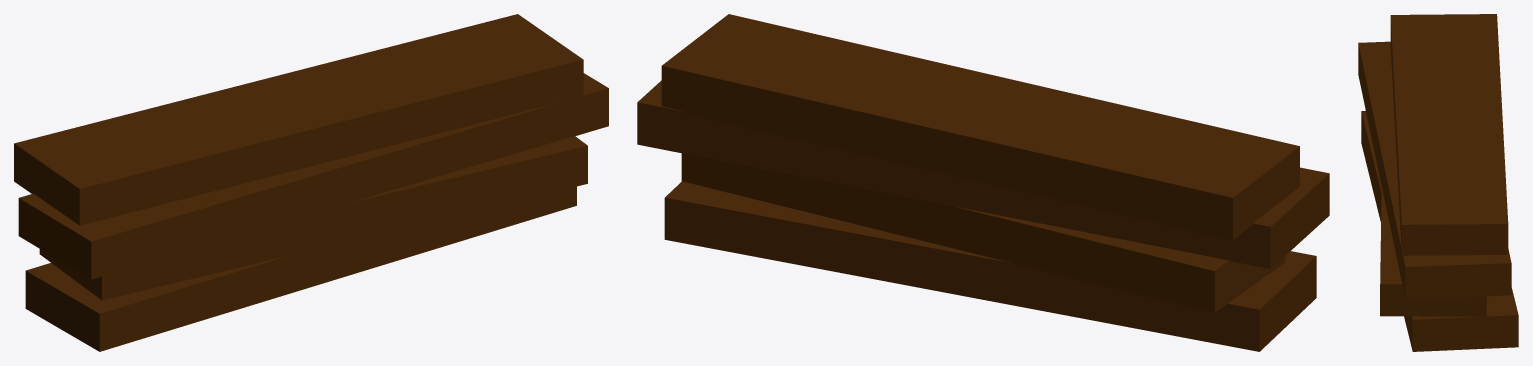
File: planks.glb
The picture shows the model from 3 angles, left to right: view 1: azimuth 30°, elevation 25°; view 2: azimuth 150°, elevation 25°; view 3: azimuth 270°, elevation 25°; orthographic projection. The views are drawn at different scales.
Parts seen in each view (by area): view 1: Cube; view 2: Cube; view 3: Cube.
Part boxes in pixels (x1,y1,x2,y2): Cube: (14,14,608,351); Cube: (637,14,1329,351); Cube: (1358,14,1518,351).
Bounding box in the file's own units: 1.52 × 0.3952 × 0.4517.
